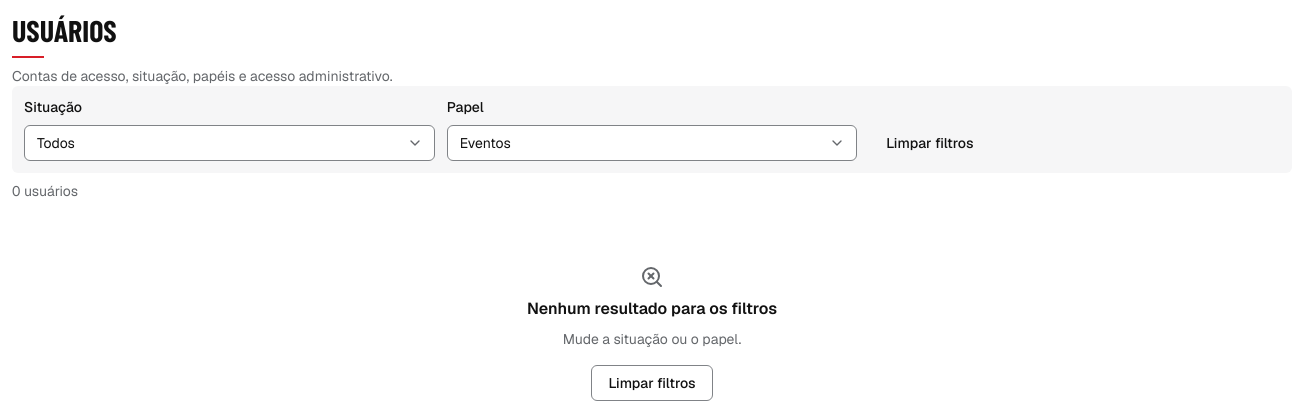
Test: barra de filtros e estados (DSP-05 AC1, DSP-02 AC2 e AC3) › filtro sem resultado mostra o estado de sem resultado, cuja ação limpa os filtros
The image size is (1292, 418).
Click the button "Limpar filtros" below "Mude a situação ou o papel." at (652, 383), box [592, 365, 713, 401]
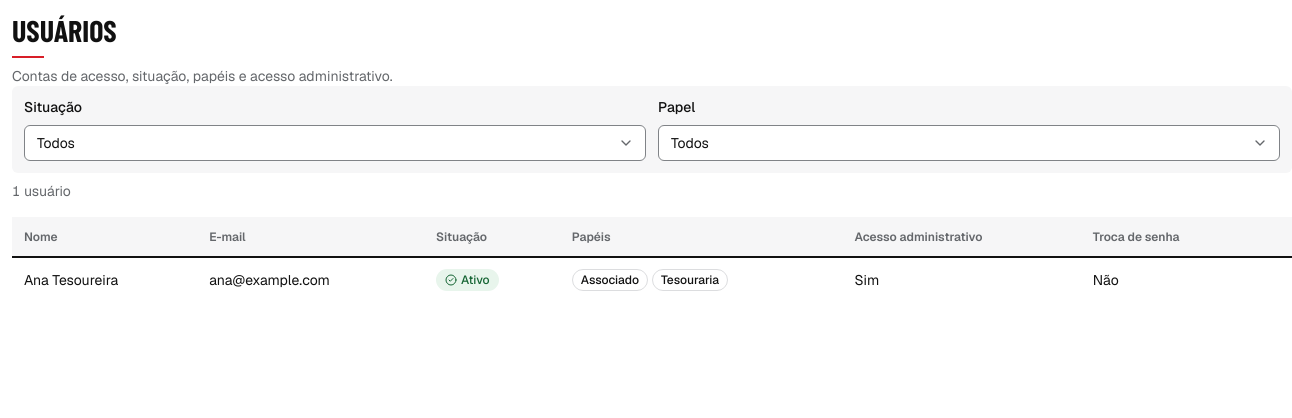
Expected: the text "ana@example.com" is shown, [197, 257, 424, 301]
